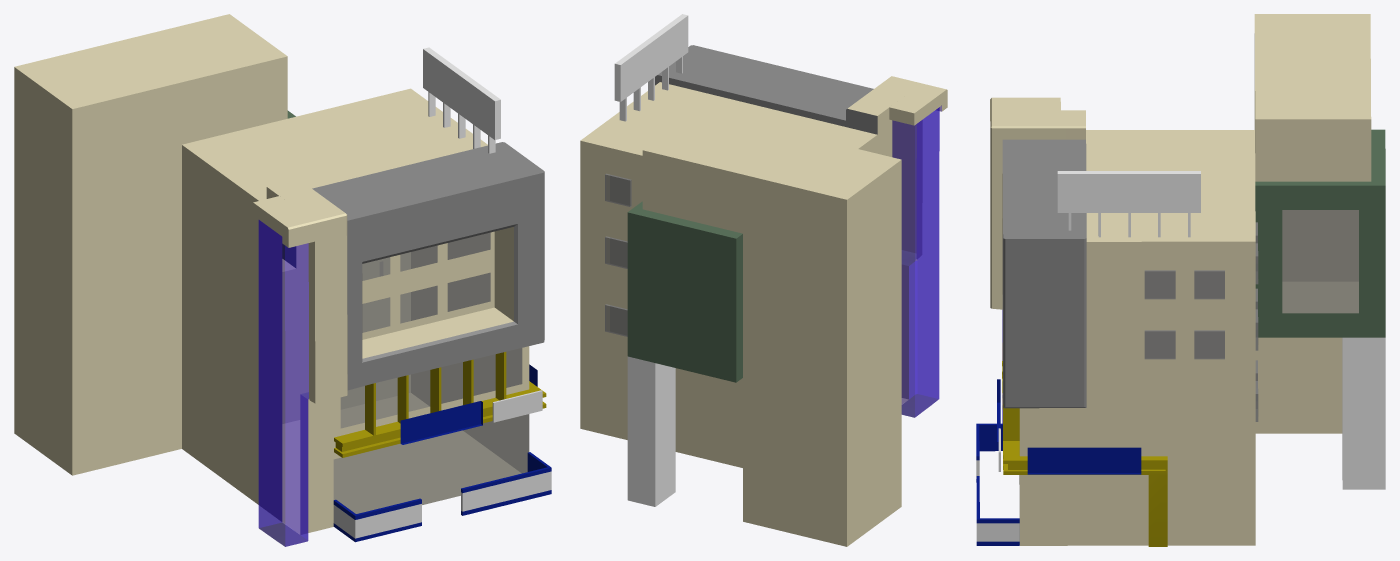
The model's file is Building01fbx.fbx.
3 views of the same model, side by side, from view 1: azimuth 30°, elevation 25°; view 2: azimuth 150°, elevation 25°; view 3: azimuth 270°, elevation 25° (orthographic). The views are drawn at different scales.
Visible parts, largest first — view 1: Building01; view 2: Building01; view 3: Building01.
Part boxes in pixels (left/top/right/bottom): Building01: left=14, top=14, right=551, bottom=546; Building01: left=580, top=14, right=947, bottom=546; Building01: left=976, top=14, right=1385, bottom=546.
Size of the model in its own units: 2262 by 2260 by 2281.
